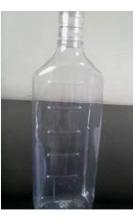bottle: (29, 9, 106, 214)
